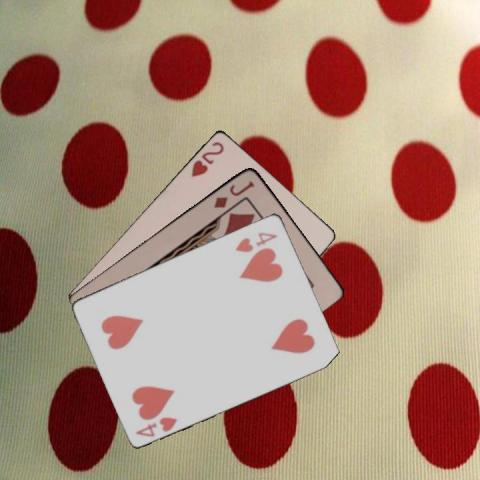2h: (188, 138, 225, 178)
4h: (132, 413, 178, 438), (232, 229, 279, 253)
Jd: (211, 178, 256, 210)
